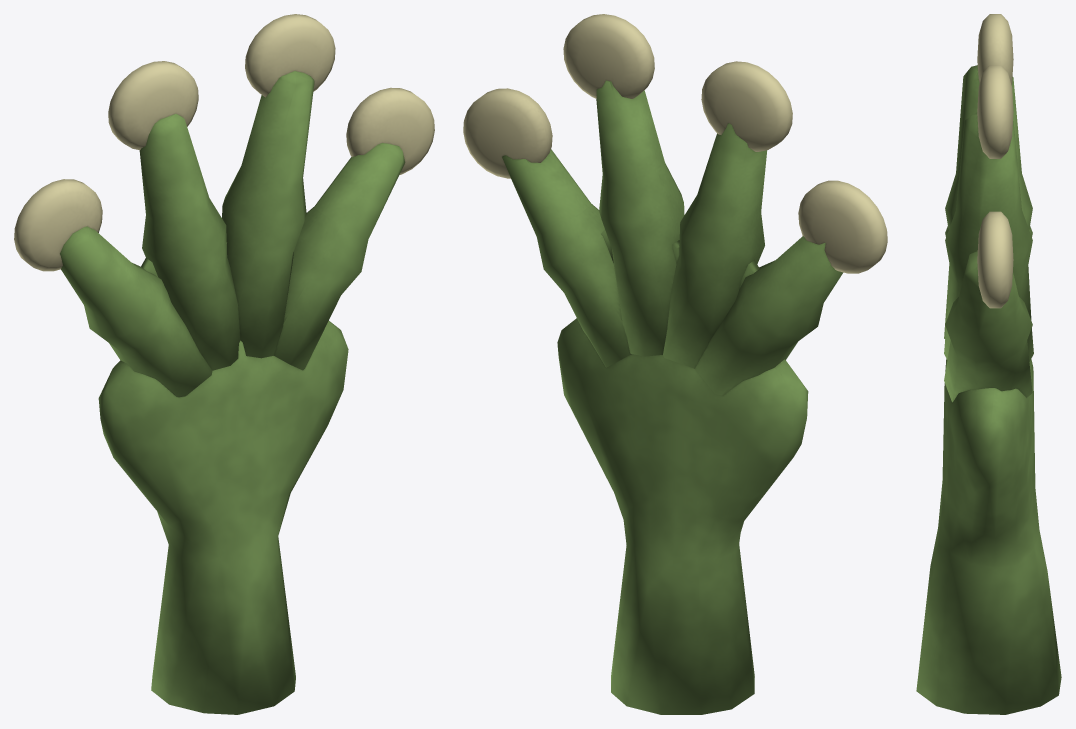
File: cpart_hand_frog.glb
3 renders of one model, left to right at view 1: azimuth 30°, elevation 25°; view 2: azimuth 150°, elevation 25°; view 3: azimuth 270°, elevation 25°, orthographic.
Parts seen in each view (by area): view 1: HandFrog, Pads; view 2: HandFrog, Pads; view 3: HandFrog, Pads.
Boxes of the visible parts, box(x1,y1,x2,y2) form: HandFrog: box(60, 71, 404, 714); Pads: box(14, 14, 434, 271); HandFrog: box(502, 80, 843, 714); Pads: box(463, 14, 887, 273); HandFrog: box(916, 65, 1061, 714); Pads: box(977, 14, 1013, 308).
Bounding box in the file's own units: 0.0896 × 0.1343 × 0.0271.
Materials: 2 (2 with a texture image).
